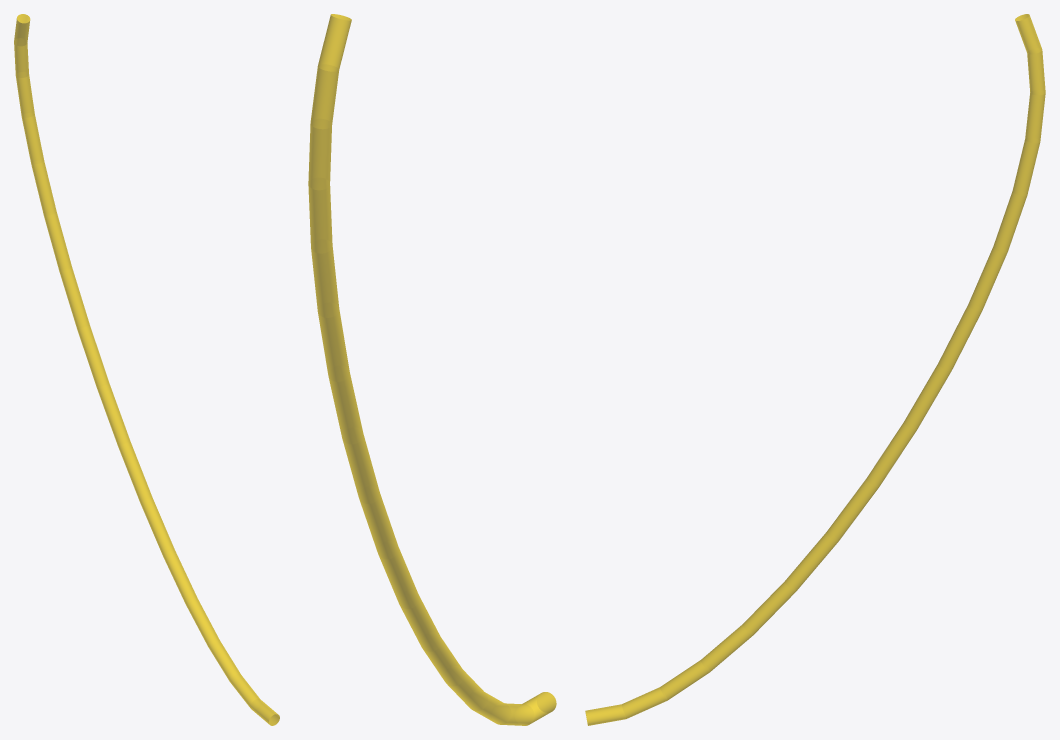
The model's file is Event_402970704_track_70.fbx.
3 views of the same model, side by side, from view 1: azimuth 30°, elevation 25°; view 2: azimuth 150°, elevation 25°; view 3: azimuth 270°, elevation 25° (orthographic). The views are drawn at different scales.
Visible parts, largest first — view 1: Model; view 2: Model; view 3: Model.
Part boxes in pixels (x1,y1,x2,y2): Model: (14, 14, 279, 725); Model: (308, 14, 556, 725); Model: (585, 14, 1045, 725).
Size of the model in its own units: 0.2511 by 1.92 by 1.18.
